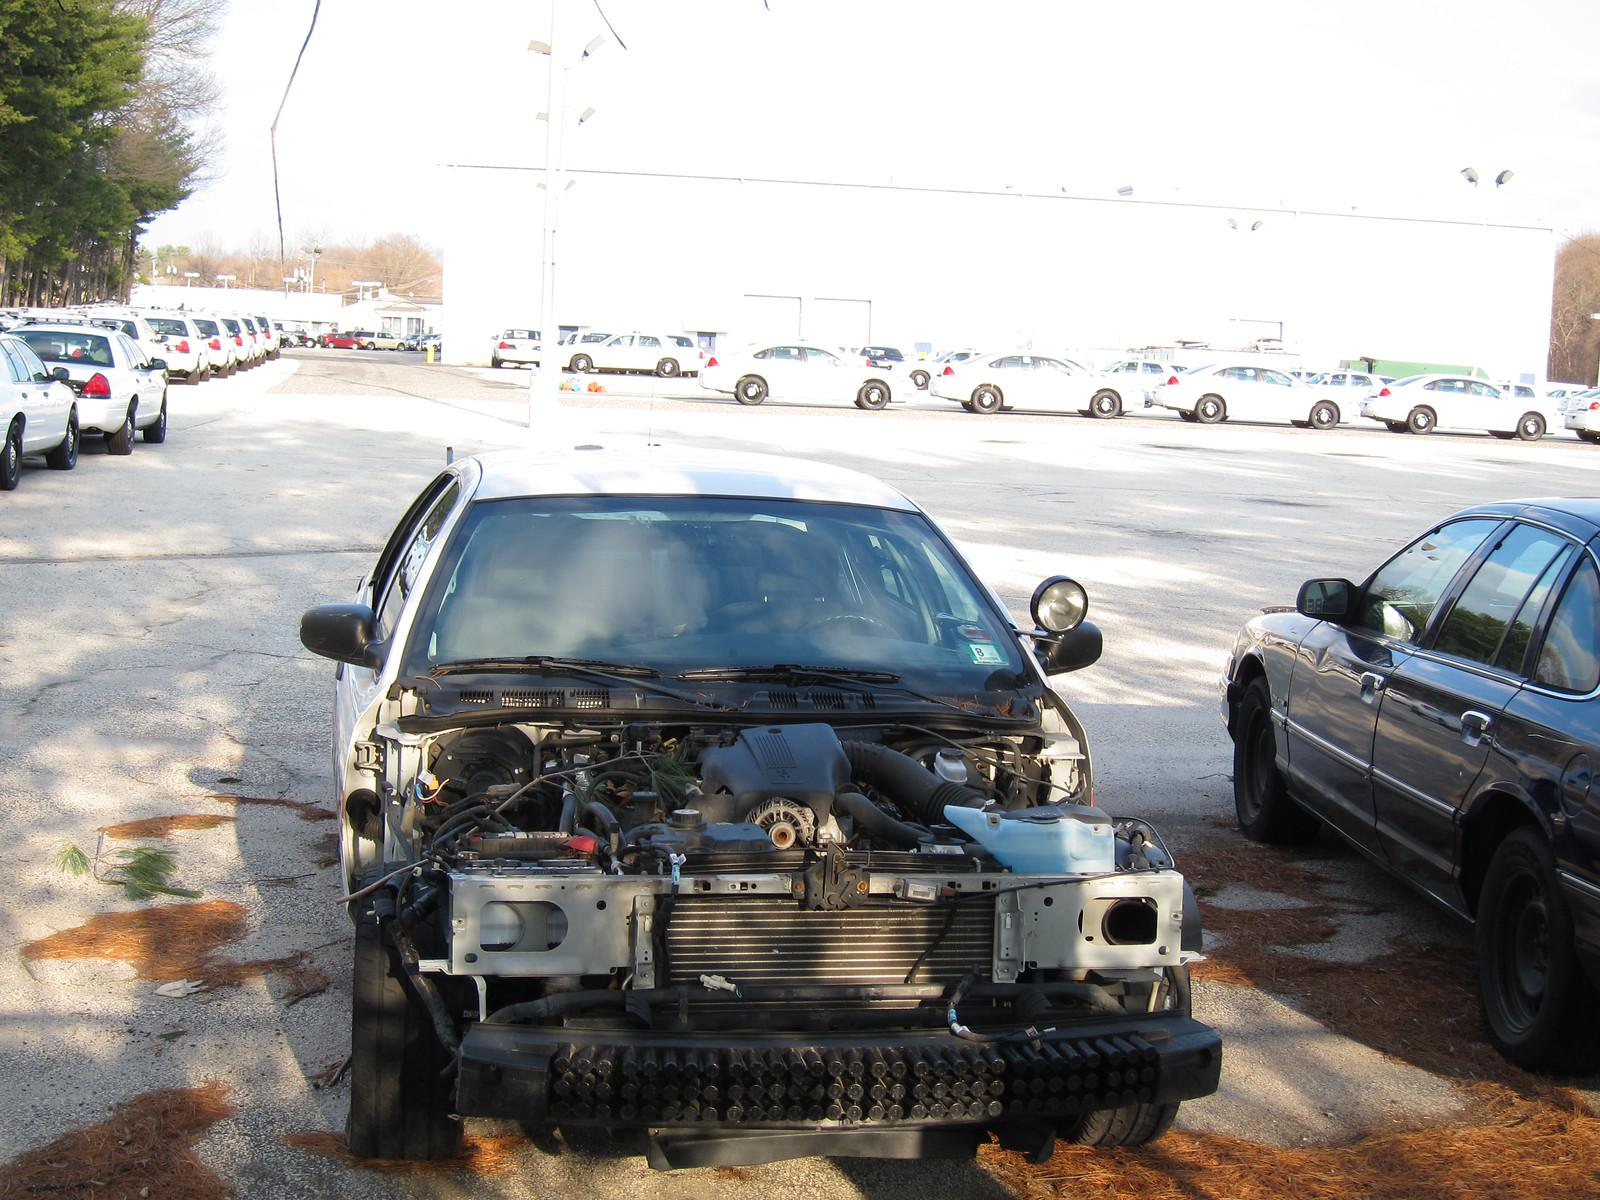bonnet-dent: (428, 673, 1053, 819)
front-bumper-dent: (578, 850, 1007, 1024)
